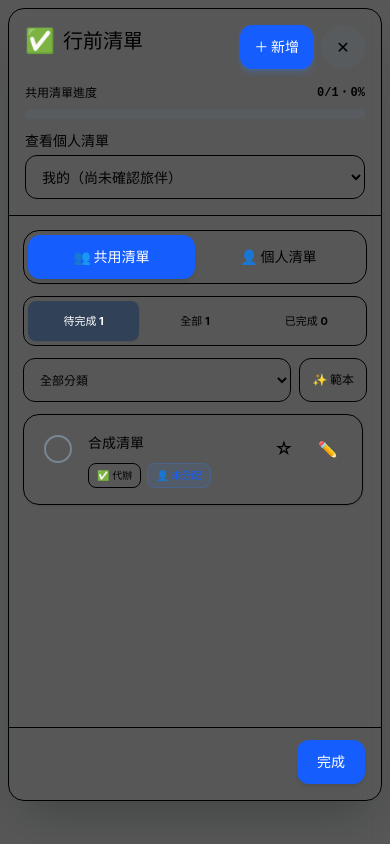
Scenario: checklist attribution and viewing are separate › completed filter with no match does not describe an existing list as empty
Click the button "已完成 0".
click(306, 321)  # box [251,301,362,341]
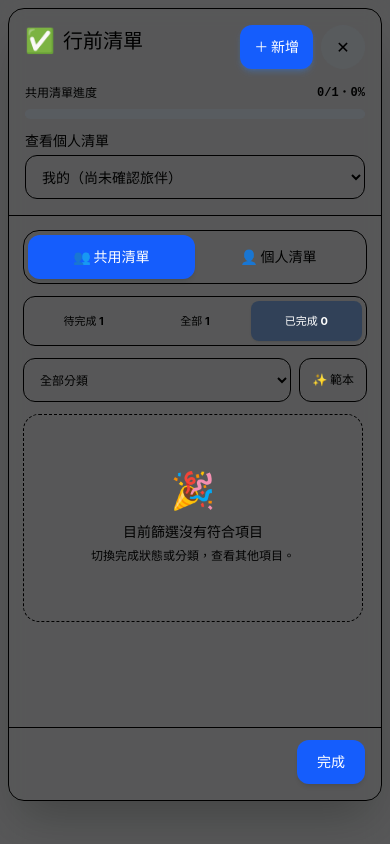
expect the text "目前篩選沒有符合項目" is shown: met, box [123,522,263,542]
expect the text "切換完成狀態或分類，查看其他項目。" is shown: met, box [91,546,295,566]
Click the button "全部 1".
click(195, 321)  # box [139,301,251,341]
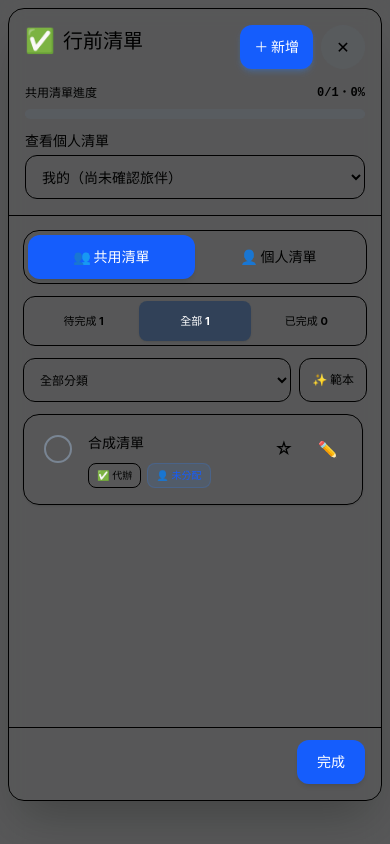
expect the button with aria-label "編輯 合成清單" is shown: met, box [88,427,254,492]
